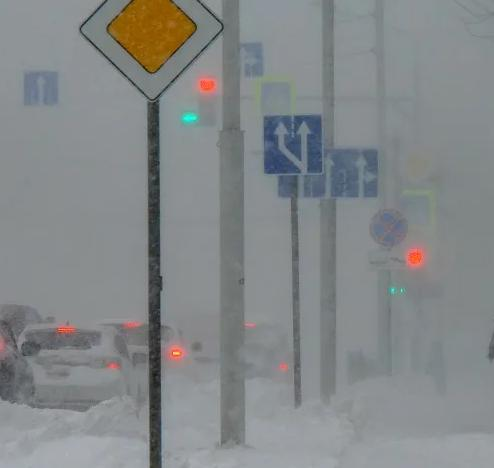obstructed_road_sign: (78, 0, 224, 101), (278, 149, 378, 197), (255, 77, 296, 116), (370, 209, 407, 246), (24, 71, 57, 105), (239, 39, 264, 77)
road_sign: (263, 113, 324, 174)
traffic light: (180, 73, 218, 127)
